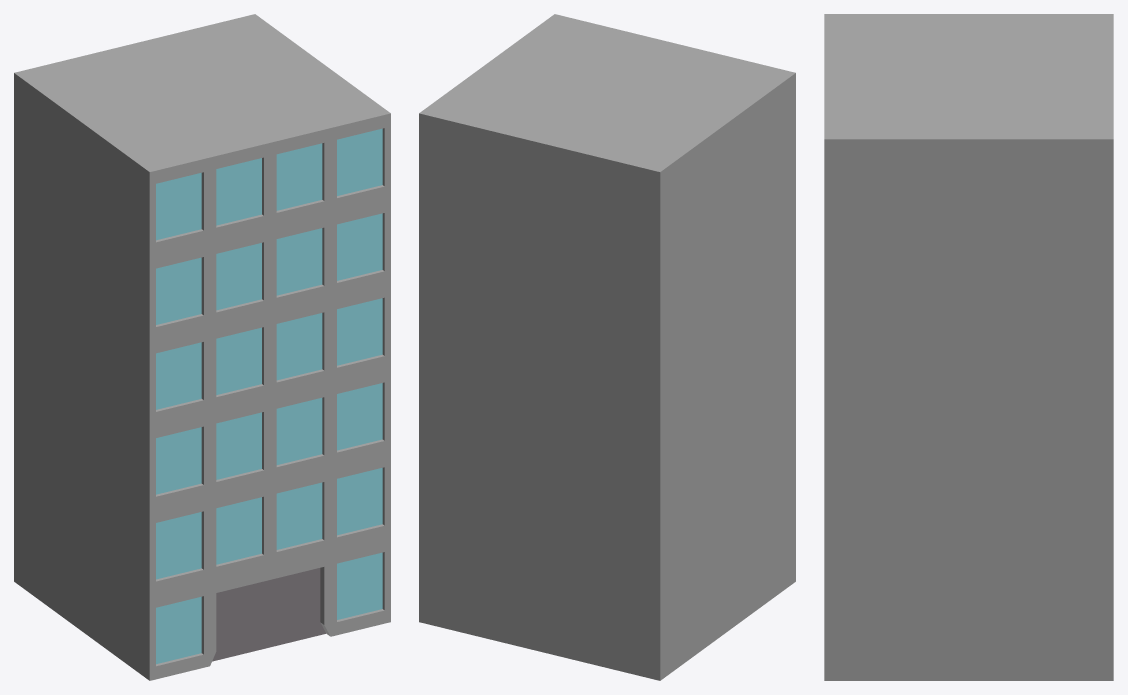
The model's file is Bill.fbx.
3 views of the same model, side by side, from view 1: azimuth 30°, elevation 25°; view 2: azimuth 150°, elevation 25°; view 3: azimuth 270°, elevation 25° (orthographic). The views are drawn at different scales.
Parts seen in each view (by area): view 1: Bill; view 2: Bill; view 3: Bill.
Boxes of the visible parts, x1,y1,x2,y2 form: Bill: [14, 14, 390, 680]; Bill: [419, 14, 795, 680]; Bill: [824, 14, 1113, 680].
Size of the model in its own units: 986 by 1987 by 961.
